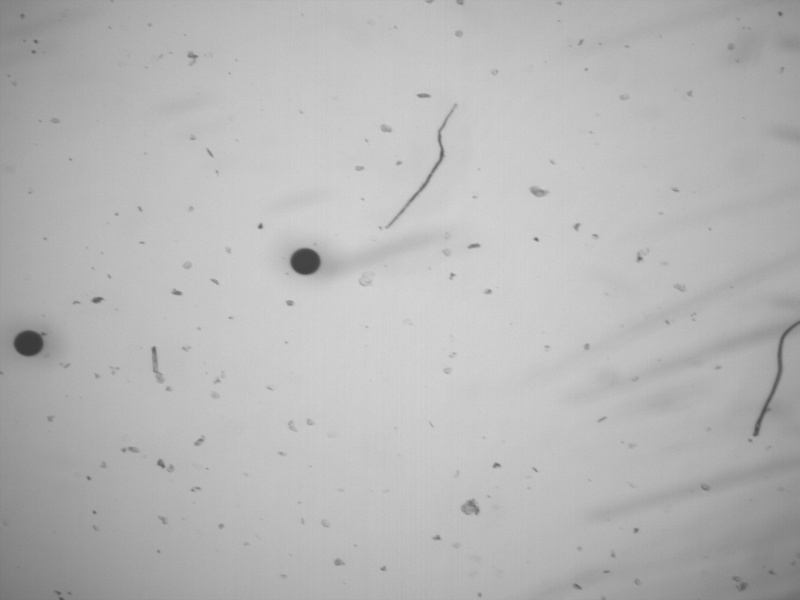bead: (11, 329, 46, 357), (290, 247, 321, 275)
fiber: (381, 98, 465, 232), (750, 316, 800, 439)
